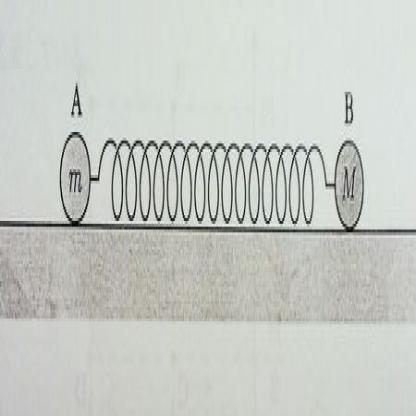FOD: (90, 126, 334, 230)
